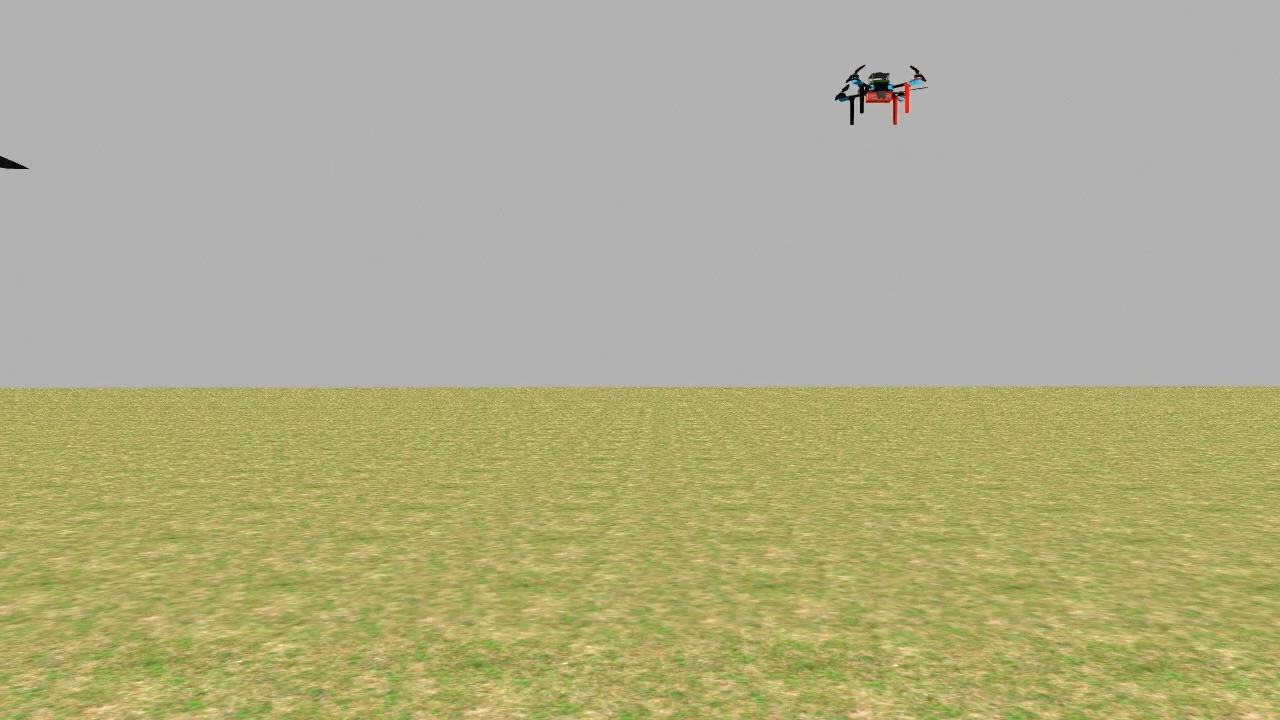UAV: (830, 63, 937, 132)
